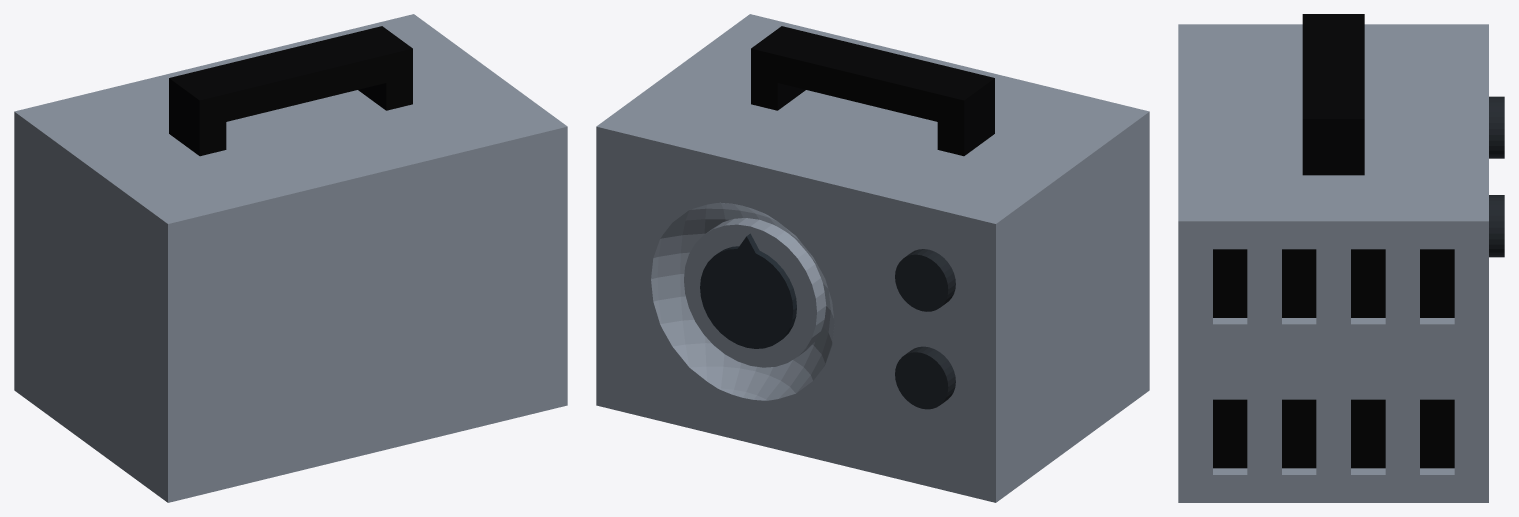
Rendered from Communication-speaker.glb.
The picture shows the model from 3 angles, left to right: view 1: azimuth 30°, elevation 25°; view 2: azimuth 150°, elevation 25°; view 3: azimuth 270°, elevation 25°; orthographic projection.
Parts seen in each view (by area): view 1: Cylinder.003; view 2: Cylinder.003; view 3: Cylinder.003.
Boxes of the visible parts, <box> form: Cylinder.003: <box>14,14,567,502</box>; Cylinder.003: <box>596,14,1149,502</box>; Cylinder.003: <box>1178,14,1504,502</box>.
Bounding box in the file's own units: 3 × 2.4 × 2.1.
1 material, 1 textured.
